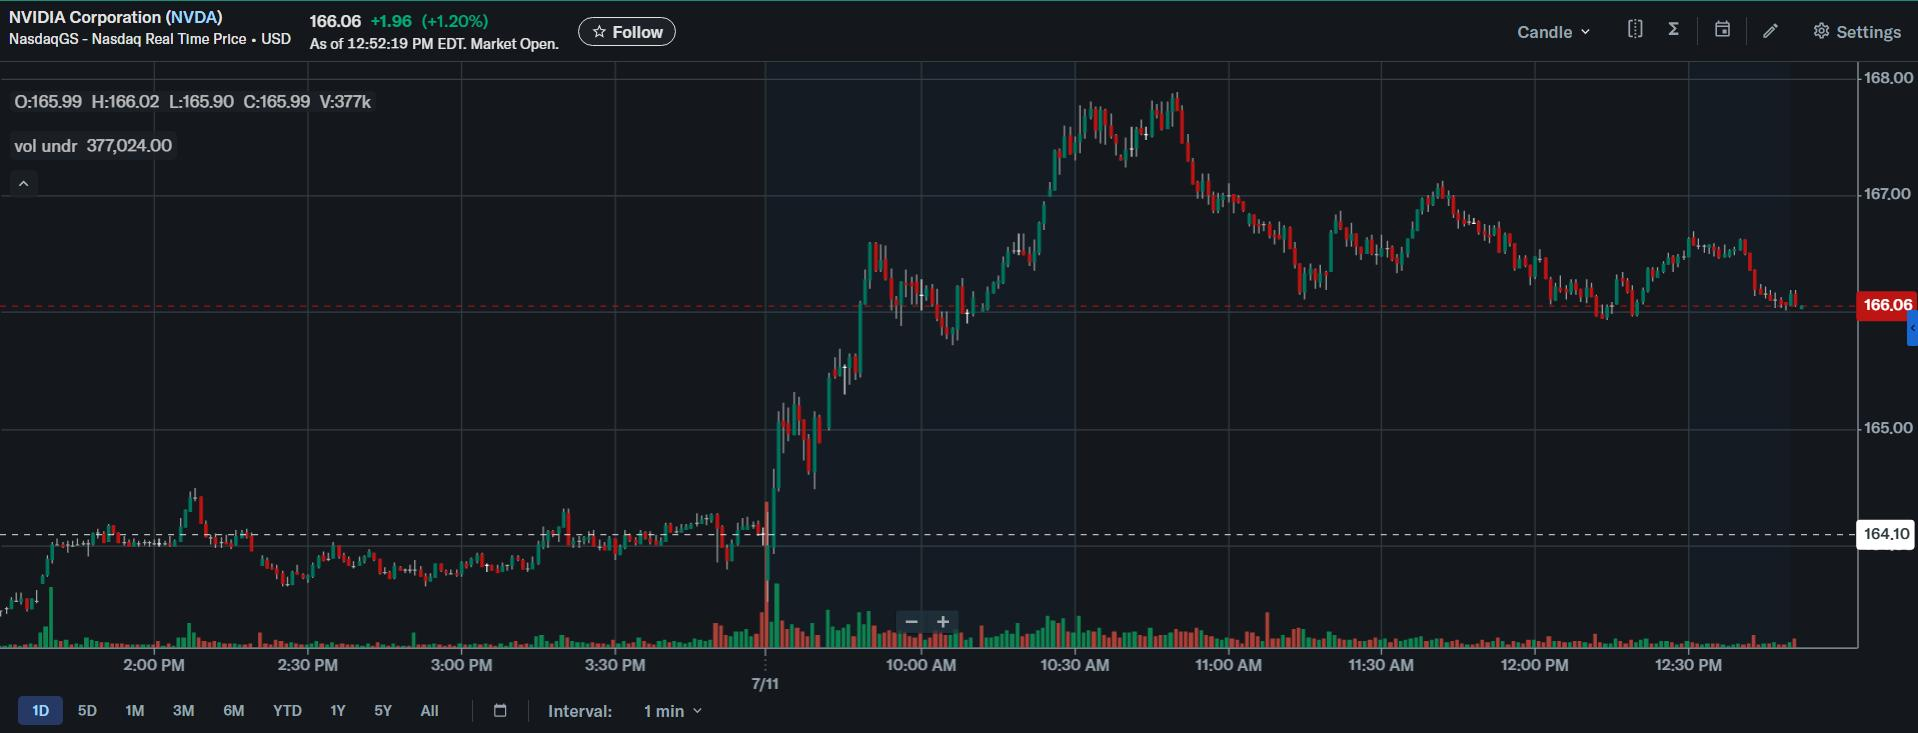Downtrend: (1164, 81, 1311, 321), (1431, 170, 1612, 333)
Sideways: (236, 532, 552, 589), (561, 507, 723, 557)
Uptrend: (760, 86, 1185, 557), (948, 97, 1100, 339), (806, 234, 882, 487)
